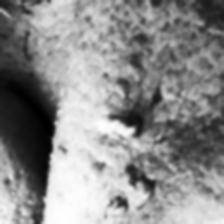Toxin: (105, 168, 155, 220), (96, 115, 140, 141), (197, 0, 223, 36)
